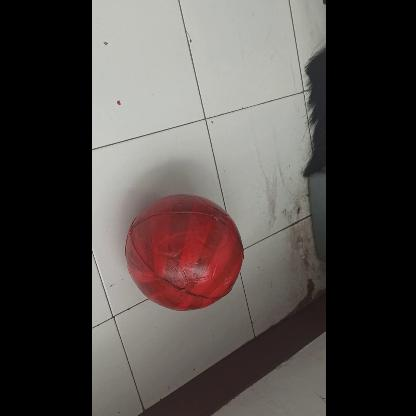red_ball: (126, 194, 244, 312)
